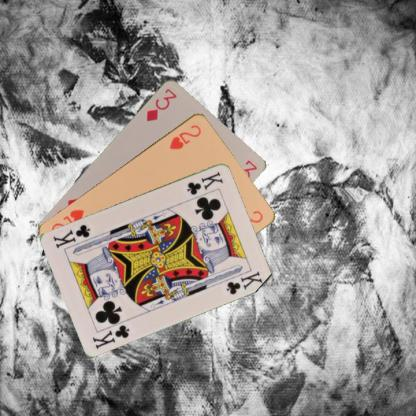2h: (166, 121, 203, 151)
3d: (143, 86, 178, 122)
Kc: (184, 168, 225, 196), (90, 322, 131, 350)
